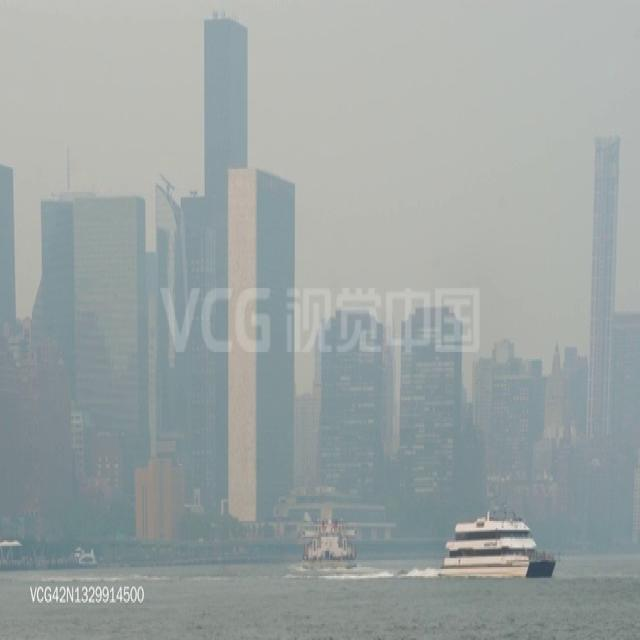houseboat: (74, 541, 98, 565)
passenger ship: (434, 510, 557, 583), (304, 517, 358, 577)
